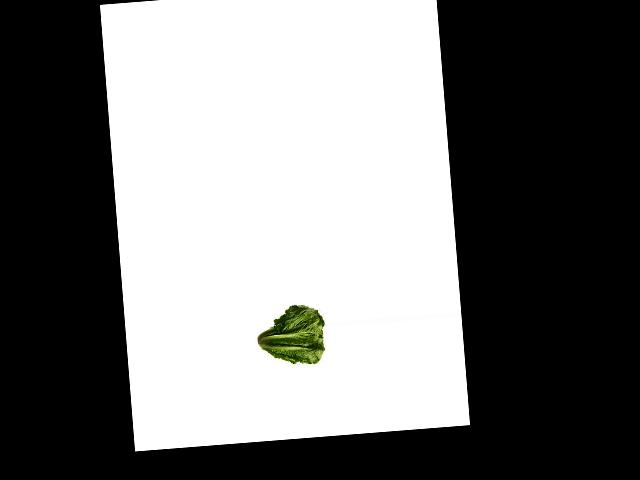lettuce: (251, 300, 328, 366)
